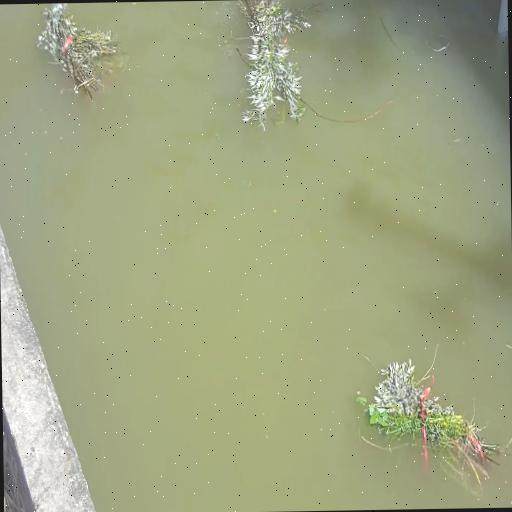twig: (355, 347, 512, 495), (229, 0, 391, 131), (36, 4, 126, 106)
